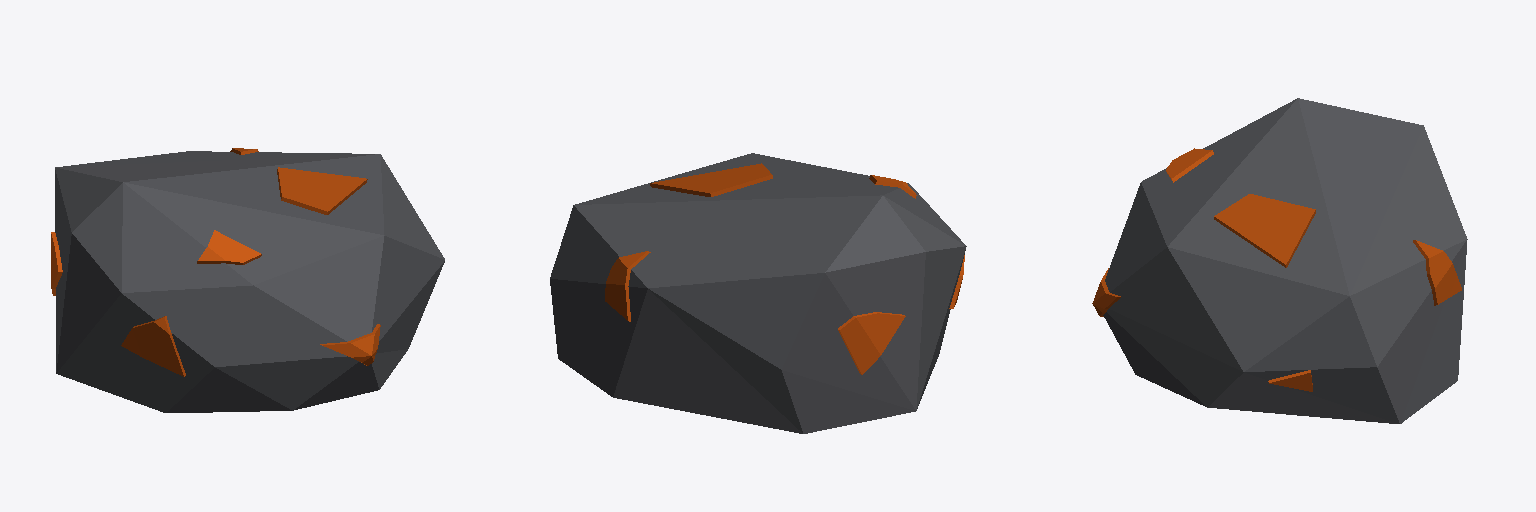
3 renders of one model, left to right at view 1: azimuth 30°, elevation 25°; view 2: azimuth 150°, elevation 25°; view 3: azimuth 270°, elevation 25°, orthographic.
Visible parts, largest first — view 1: Icosphere; view 2: Icosphere; view 3: Icosphere.
Boxes of the visible parts, x1,y1,x2,y2 form: Icosphere: [51, 148, 444, 412]; Icosphere: [550, 153, 966, 433]; Icosphere: [1092, 98, 1467, 423].
Size of the model in its own units: 0.3924 by 0.2098 by 0.3662.
Materials: 1 (1 with a texture image).